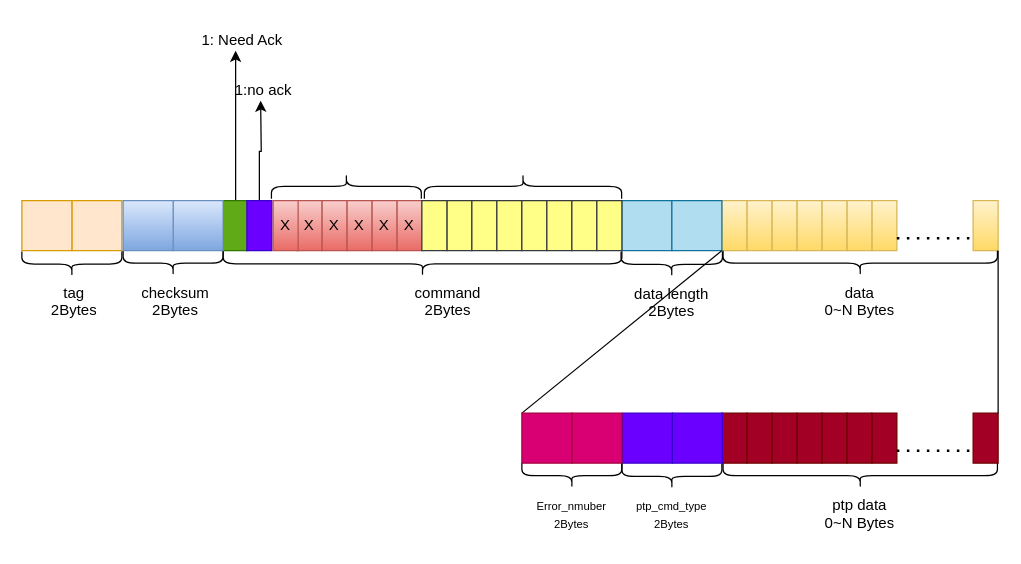
Some shapes in this 1021 by 564 pixel diagram are drawn without their labels. The centre of each missing label's shape, as x and y in pixels:
"command idx:2^8=256" goes at (x=522, y=185).
"type:2^6=64" goes at (x=345, y=185).
